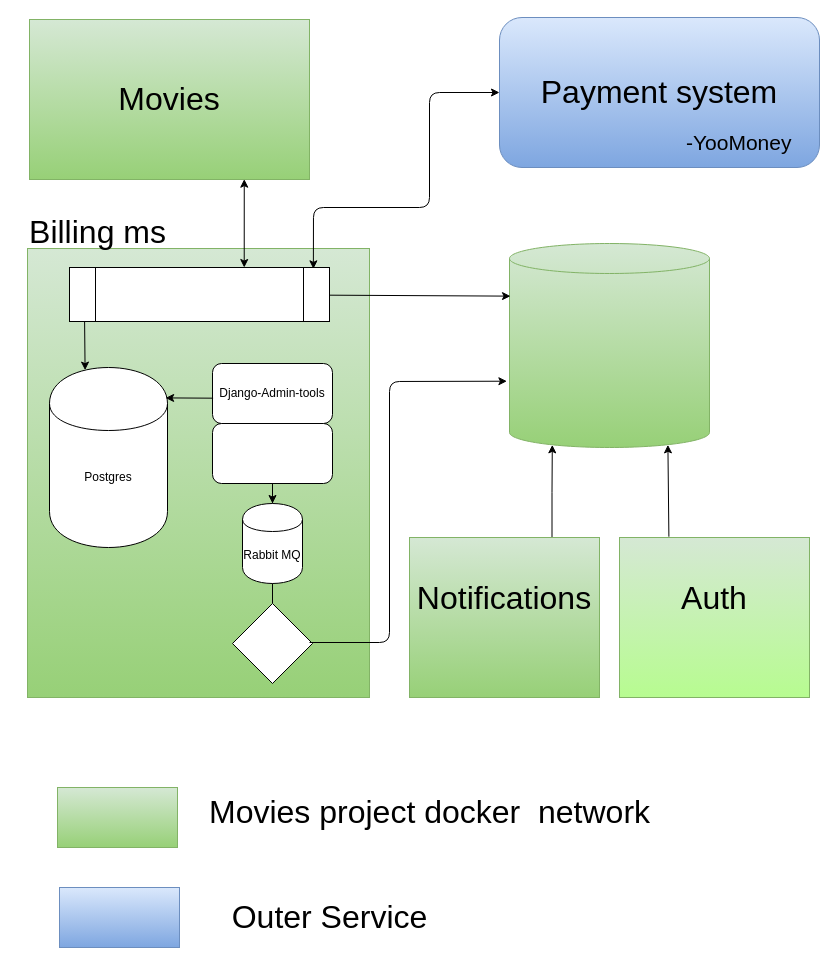
This 837x965 diagram has some shape labels left out. The centre of each missing label's shape, as x and y in pixels:
Celery: point (272, 453)
DRF: point (199, 294)
Kaffka: point (609, 345)
workers: point (272, 643)
